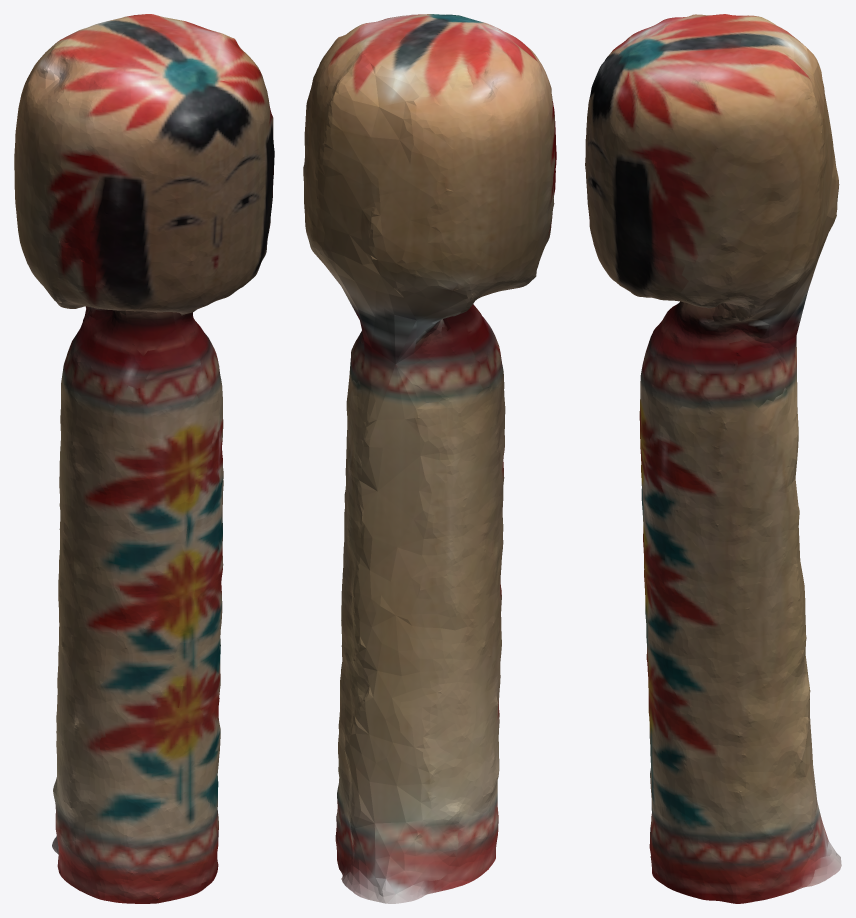
Rendered from kokeshiS008.glb.
3 views of the same model, side by side, from view 1: azimuth 30°, elevation 25°; view 2: azimuth 150°, elevation 25°; view 3: azimuth 270°, elevation 25° (orthographic). The views are drawn at different scales.
Visible parts, largest first — view 1: mesh; view 2: mesh; view 3: mesh.
Boxes of the visible parts, bbox=[...] form: mesh: bbox=[14, 14, 274, 903]; mesh: bbox=[303, 14, 556, 903]; mesh: bbox=[585, 14, 841, 903].
Bounding box in the file's own units: 0.0902 × 0.319 × 0.0897.
Materials: 1 (1 with a texture image).
